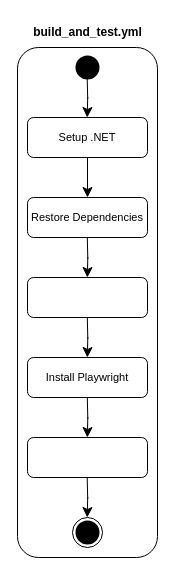
Some shapes in this 175 by 575 pixel diagram are drawn without their labels. Each missing label, with the centre of its shape:
"Build" goes at pixel 87 297.
"Test" goes at pixel 87 457.
